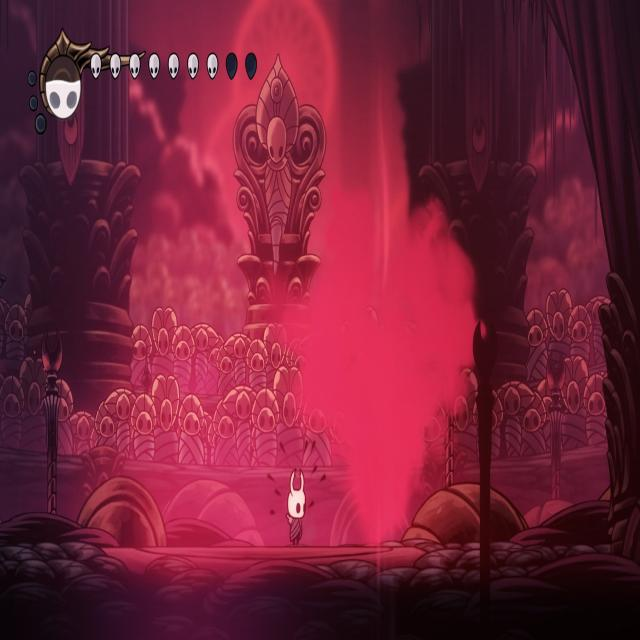Player: (284, 462, 310, 546)
